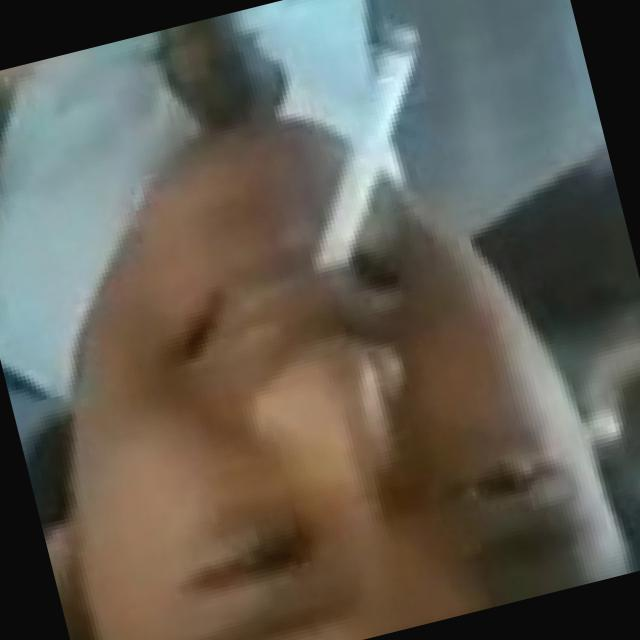smoke: (261, 0, 484, 279)
